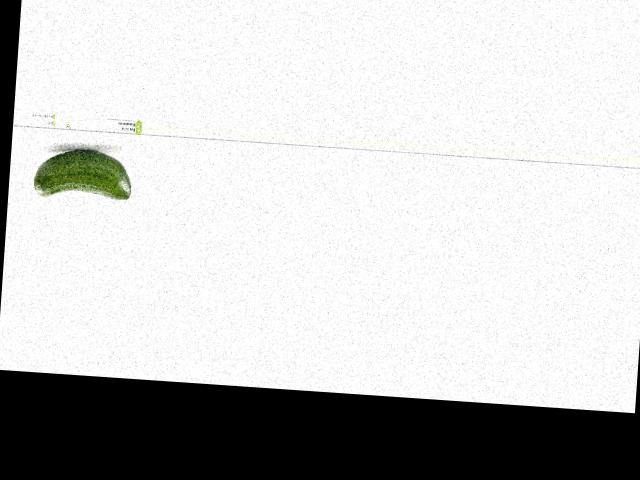cucumber: (32, 146, 132, 200)
